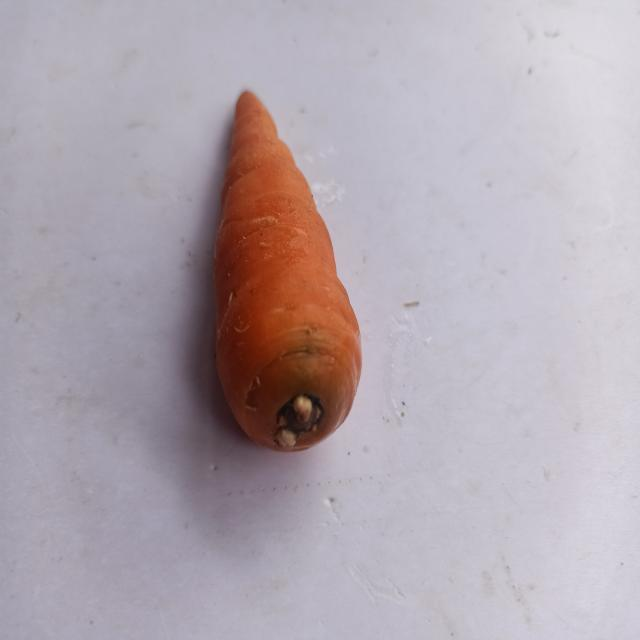Carrot: (170, 62, 400, 500)
